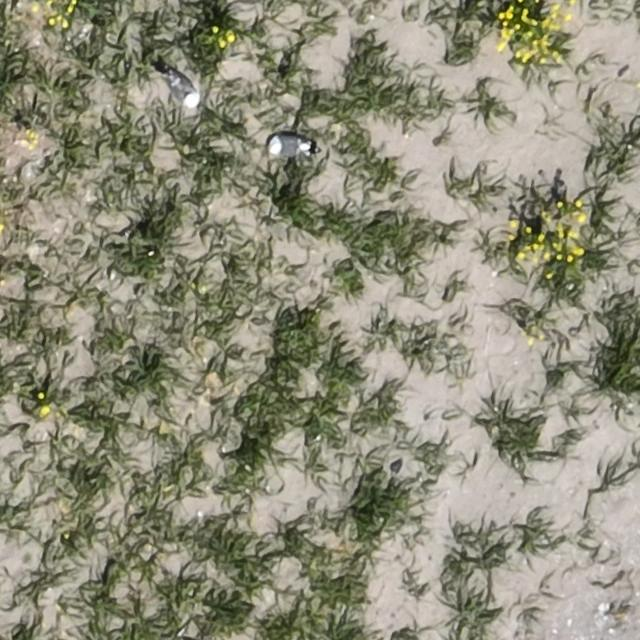umineko: (170, 77, 197, 106), (269, 136, 303, 156)
